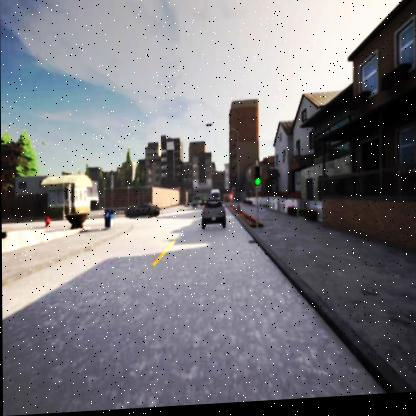vehicle: (200, 203, 225, 231), (125, 205, 160, 221)
